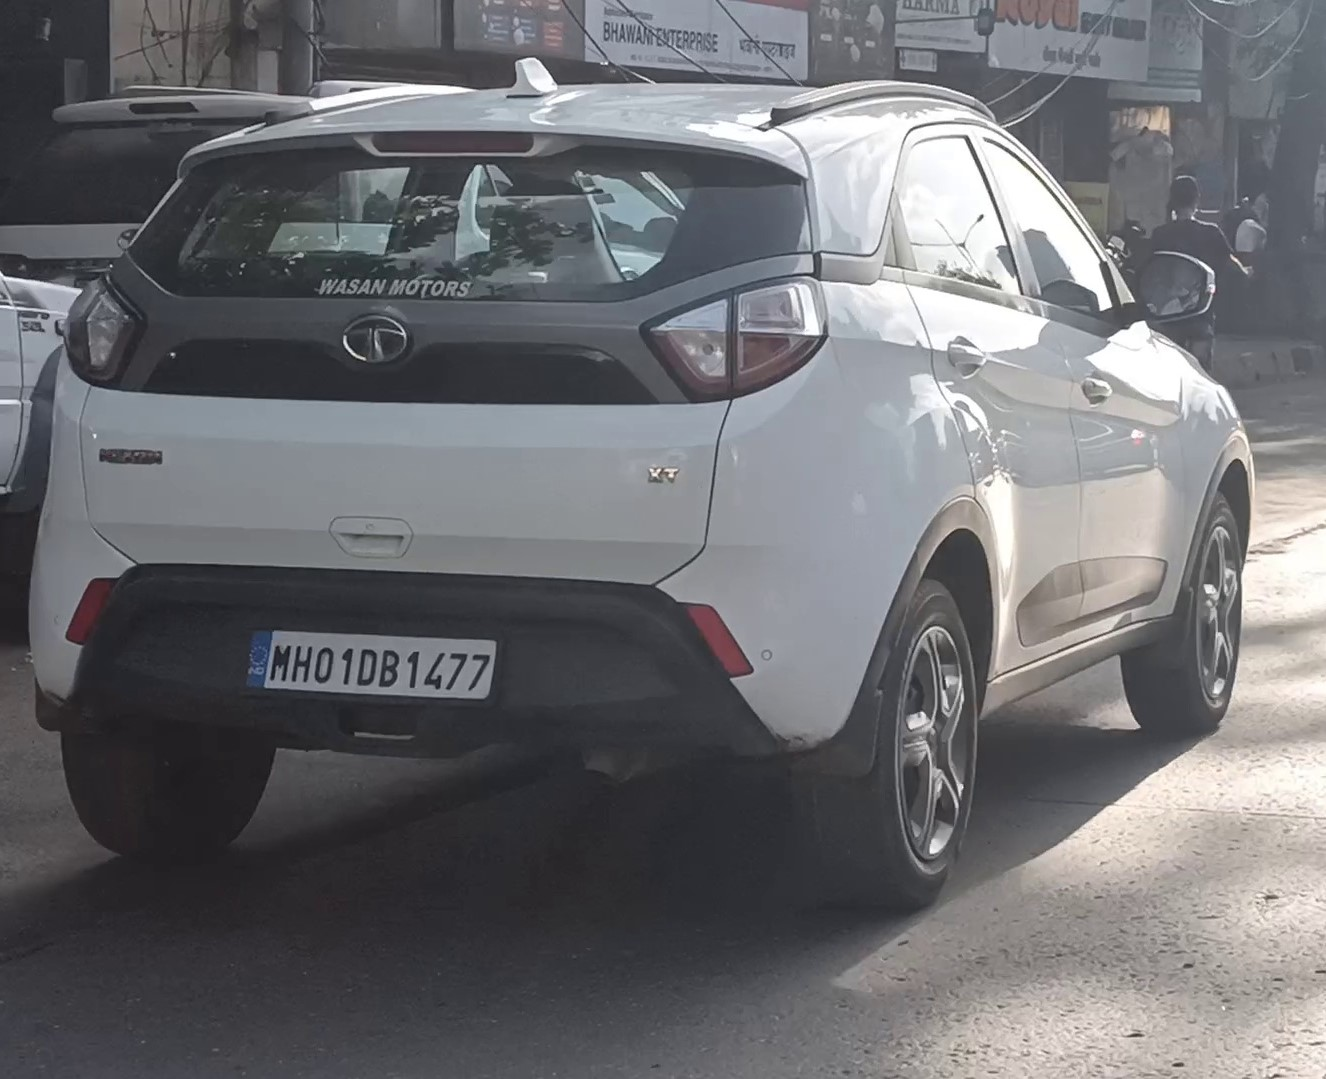MH01DB1477: (243, 630, 496, 699)
